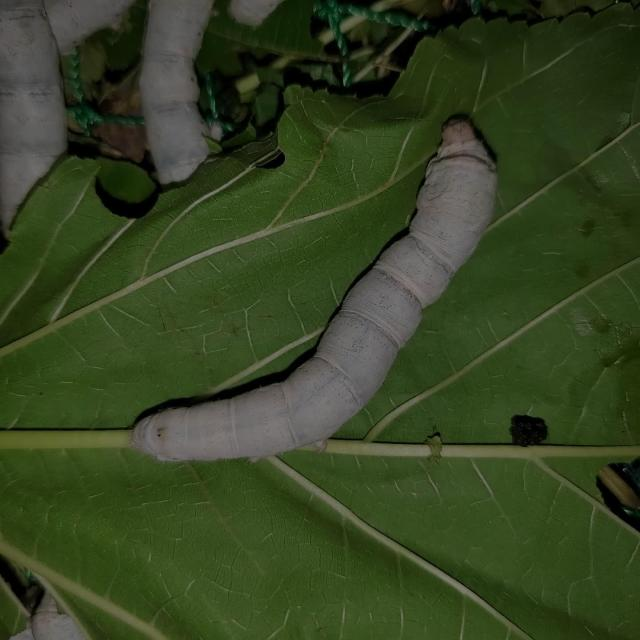Healthy: (94, 98, 593, 510)
